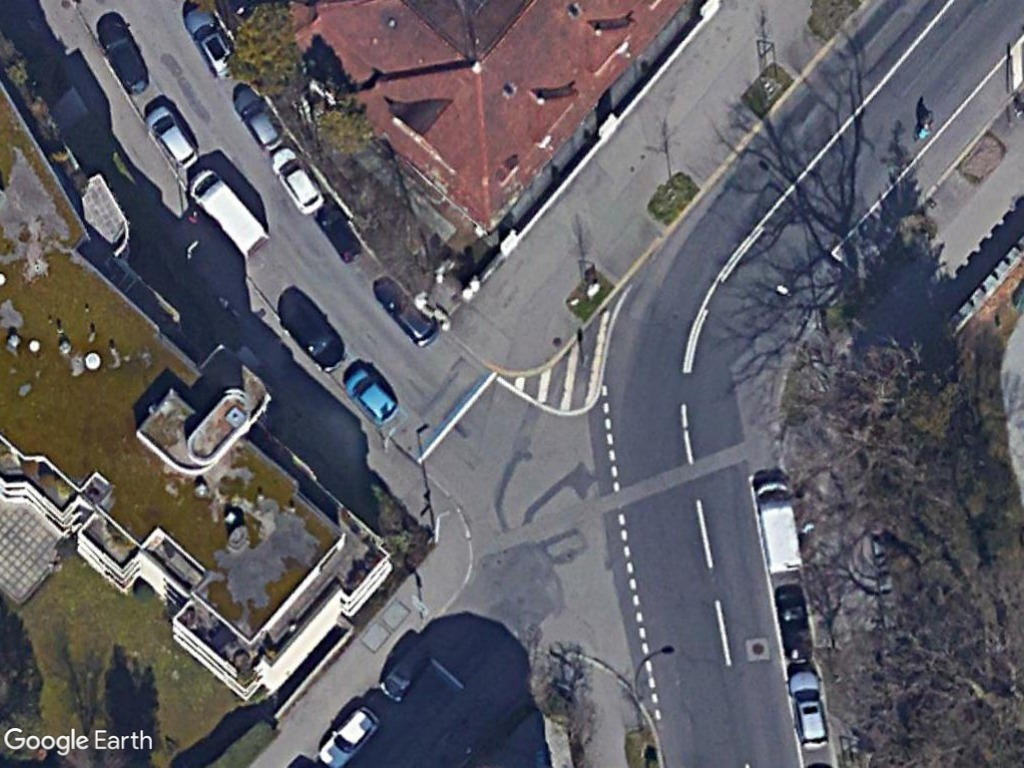car: (184, 5, 239, 81), (316, 704, 381, 768), (269, 143, 325, 214), (786, 667, 832, 753), (145, 102, 201, 169), (341, 367, 401, 427), (230, 89, 285, 151)
van: (189, 170, 271, 257), (754, 481, 805, 577)
